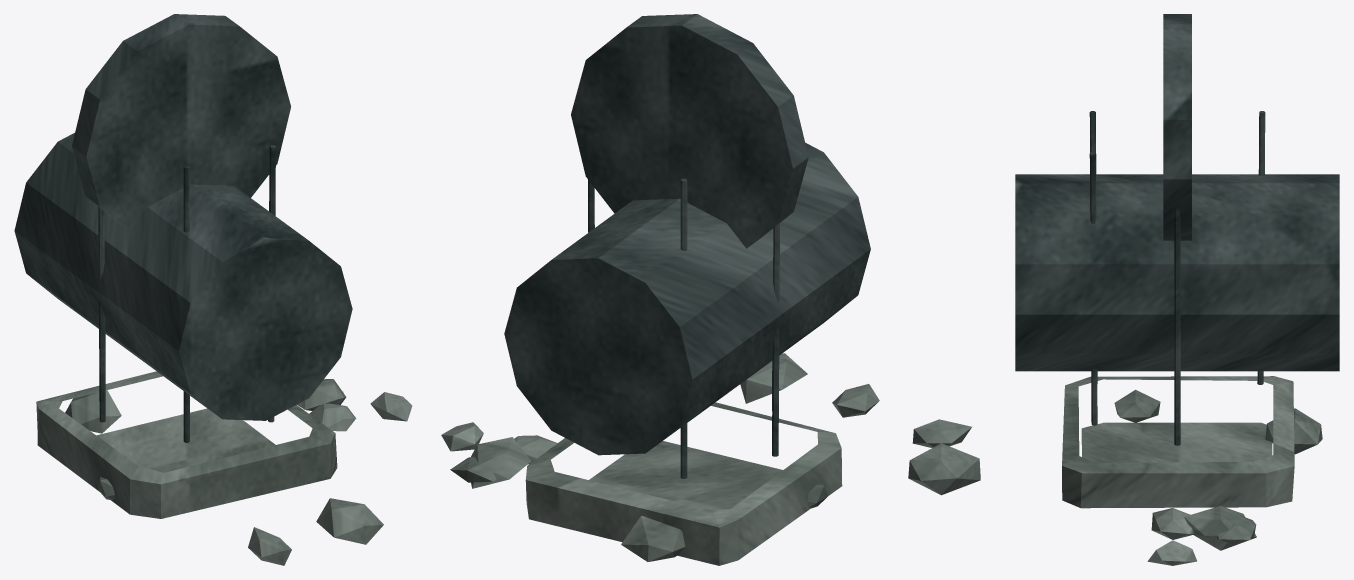
File: 0275_broken_column_25.glb
The picture shows the model from 3 angles, left to right: view 1: azimuth 30°, elevation 25°; view 2: azimuth 150°, elevation 25°; view 3: azimuth 270°, elevation 25°; orthographic projection. The views are drawn at different scales.
Parts seen in each view (by area): view 1: stone_dark, stone; view 2: stone_dark, stone; view 3: stone_dark, stone.
Part boxes in pixels (x1,y1,x2,y2): stone_dark: (14, 14, 352, 442); stone: (36, 371, 412, 565); stone_dark: (504, 14, 870, 478); stone: (441, 353, 879, 565); stone_dark: (1015, 14, 1339, 445); stone: (908, 376, 1322, 565).
Size of the model in its own units: 1.96 by 2.55 by 2.26.
2 materials, 2 textured.
